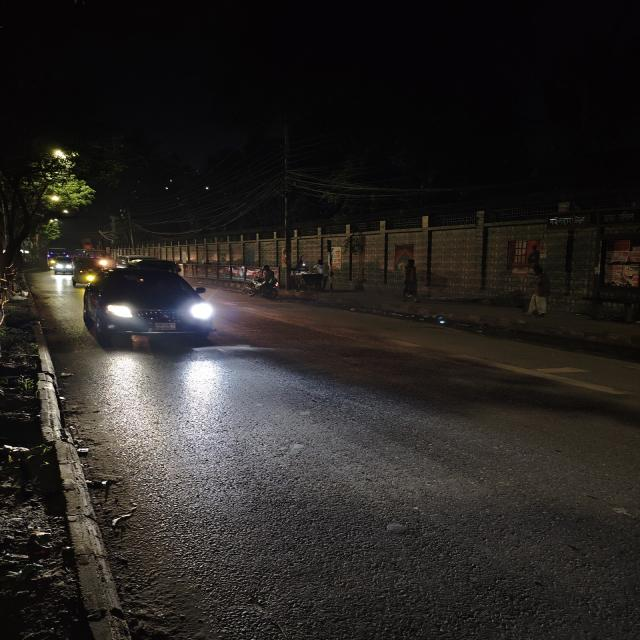bus: (75, 249, 107, 259)
car: (78, 265, 220, 349)
cng: (73, 261, 100, 287), (52, 257, 77, 276)
motorcycle: (240, 273, 283, 301)
pedestrian: (520, 264, 555, 322)
